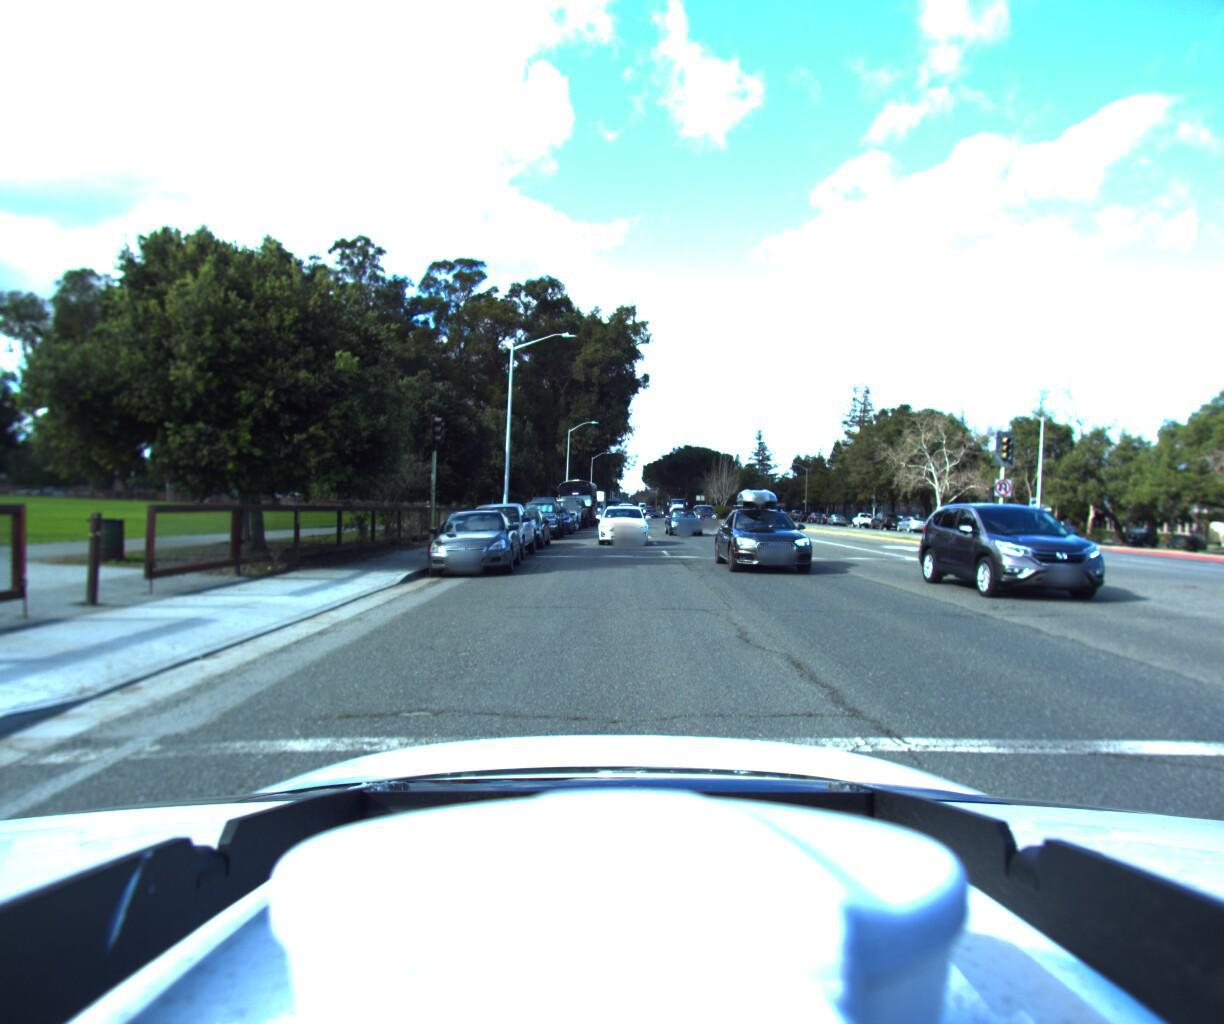bus: (554, 479, 599, 529)
car: (941, 492, 1192, 621), (715, 480, 837, 587), (419, 508, 523, 583), (450, 503, 539, 567), (489, 509, 551, 555), (513, 496, 564, 544), (595, 502, 648, 547), (542, 498, 582, 534), (663, 507, 706, 539), (534, 506, 574, 538), (868, 510, 904, 532), (893, 515, 930, 534), (694, 506, 723, 526)
other_vehicle: (575, 489, 606, 524)
